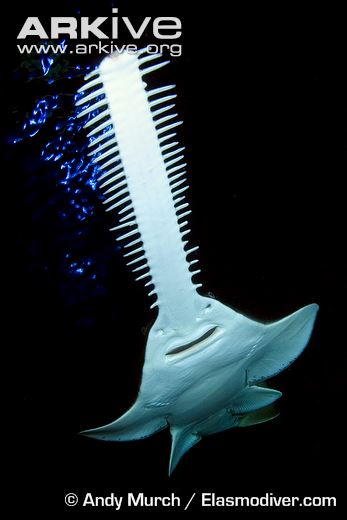shark: (30, 47, 326, 470)
